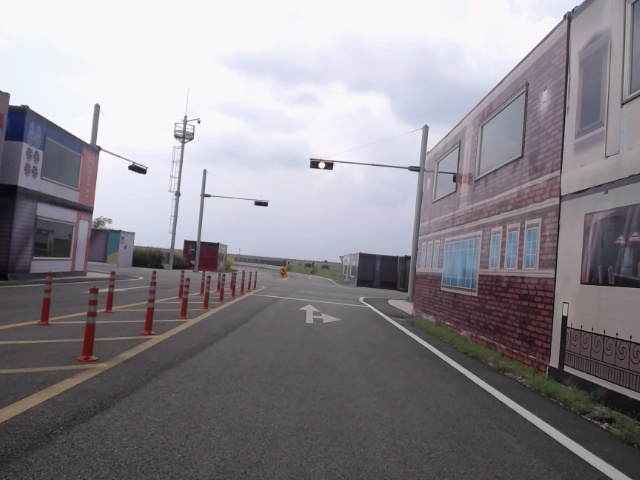orange_3: (310, 159, 333, 170)
